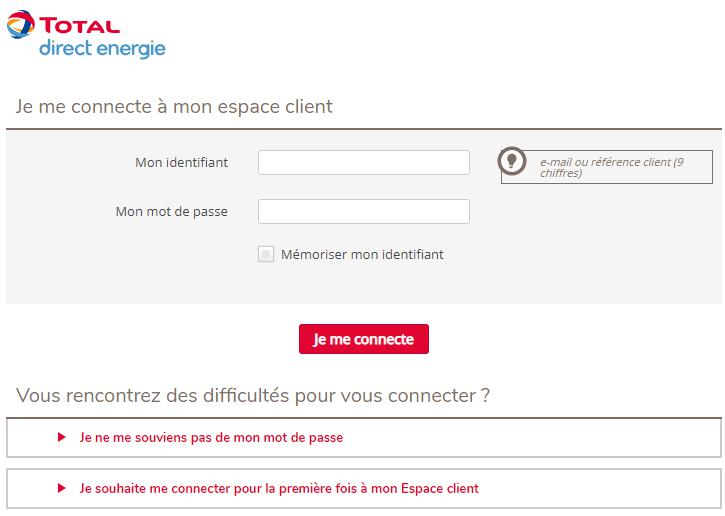error_message: (77, 479, 483, 498), (77, 429, 345, 446), (311, 329, 419, 348), (40, 14, 121, 37)
